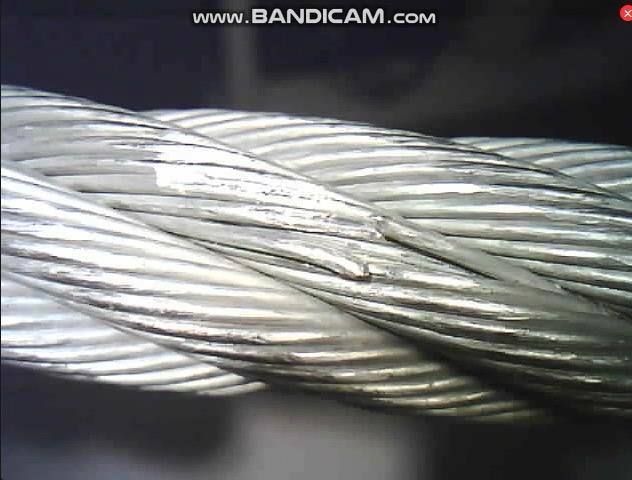break: (331, 199, 395, 283)
